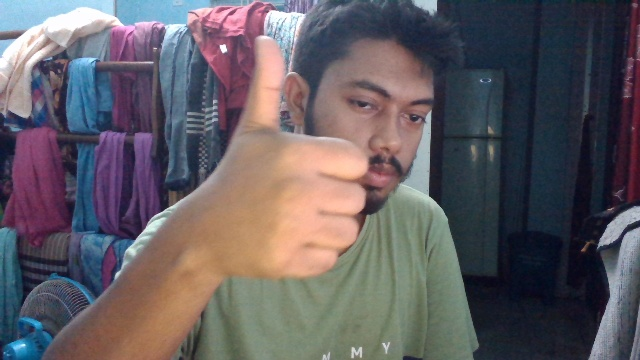yes: (196, 22, 372, 312)
